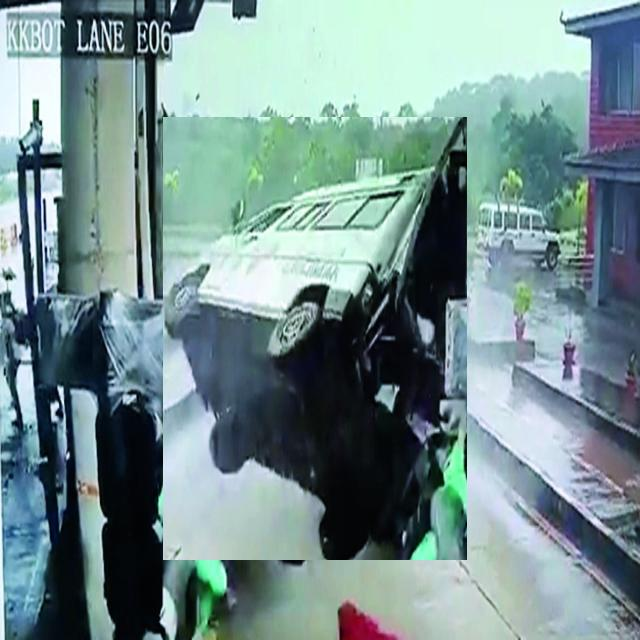accident: (164, 118, 467, 560)
car: (476, 202, 560, 269)
